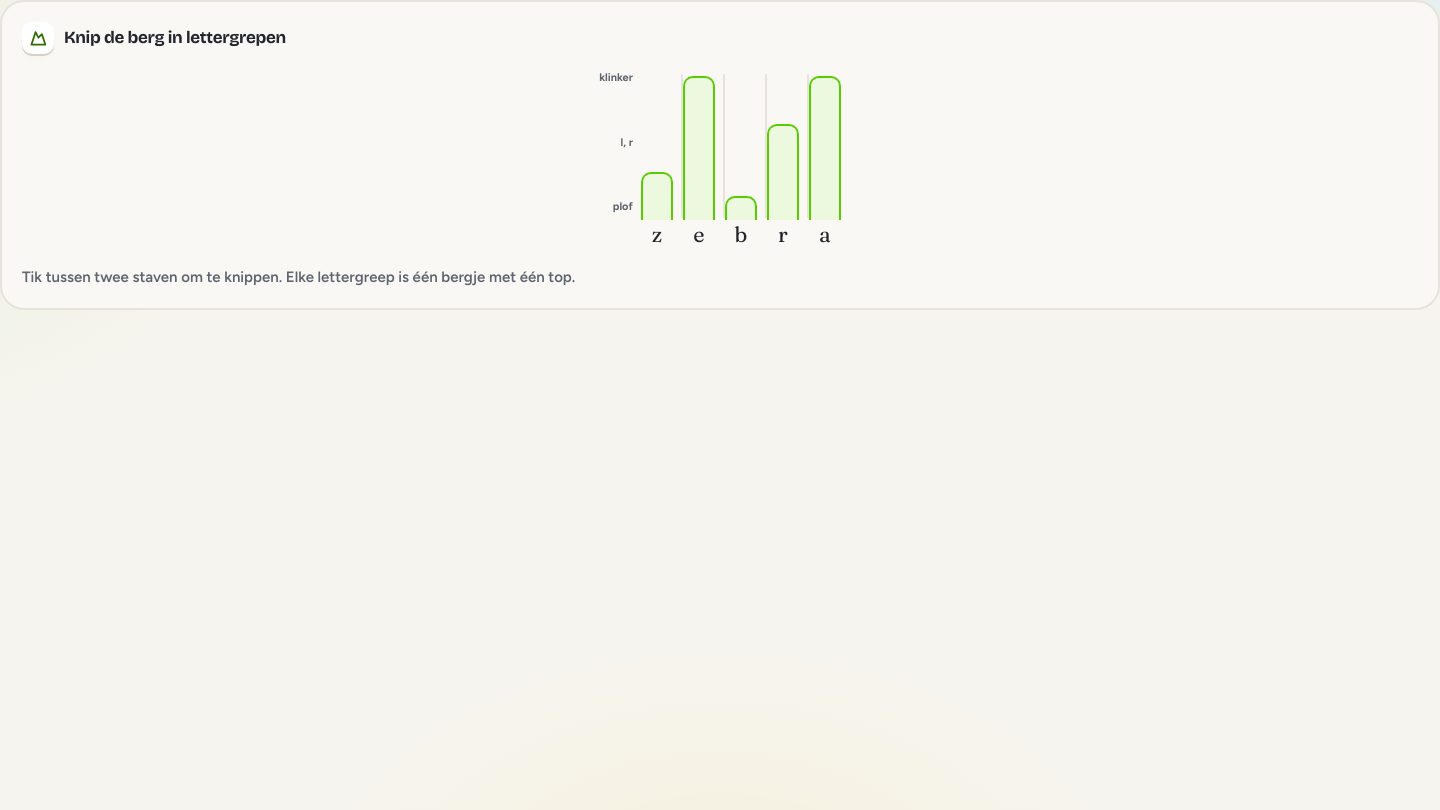
Test: lettergreepexperimenten › sonoriteitsberg: een verkeerde knip lost niet op, de goede knip wel
Click the button named "Knip tussen b en r": (762, 158) [757,70,767,246]
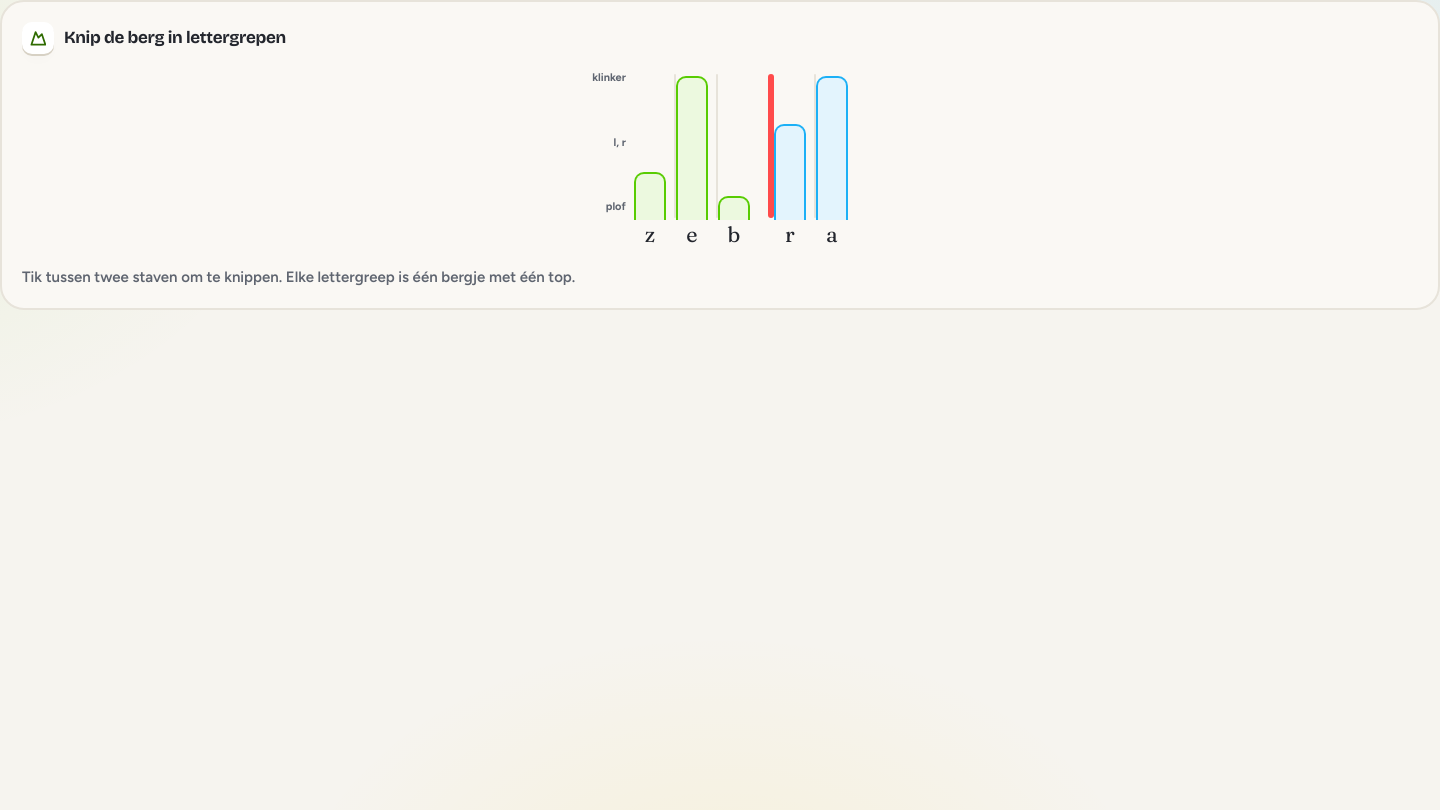
Result: the button named "Knip tussen b en r" is pressed
Click the button named "Knip tussen b en r": (762, 158) [750,70,774,246]
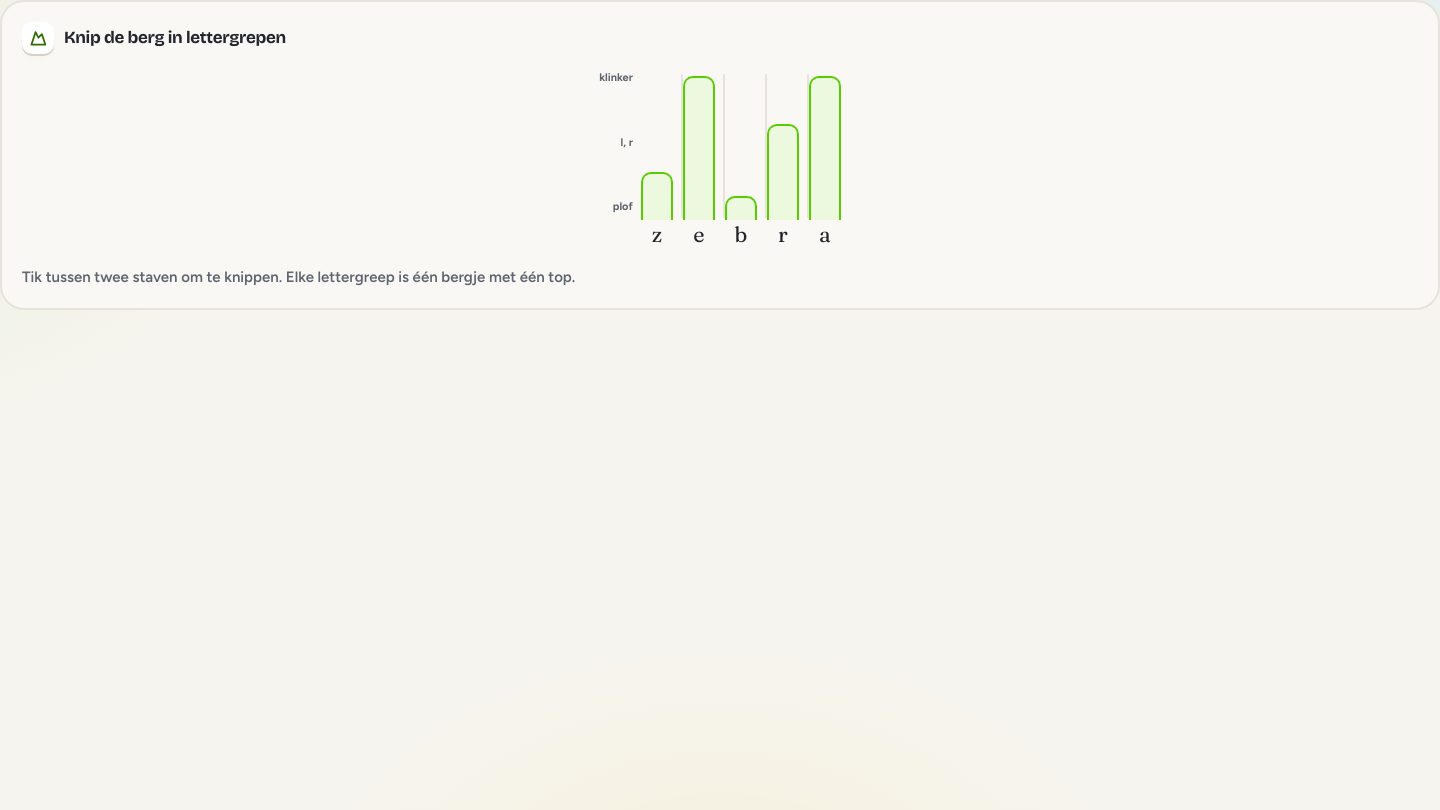
Click the button named "Knip tussen e en b": (720, 158) [715,70,725,246]
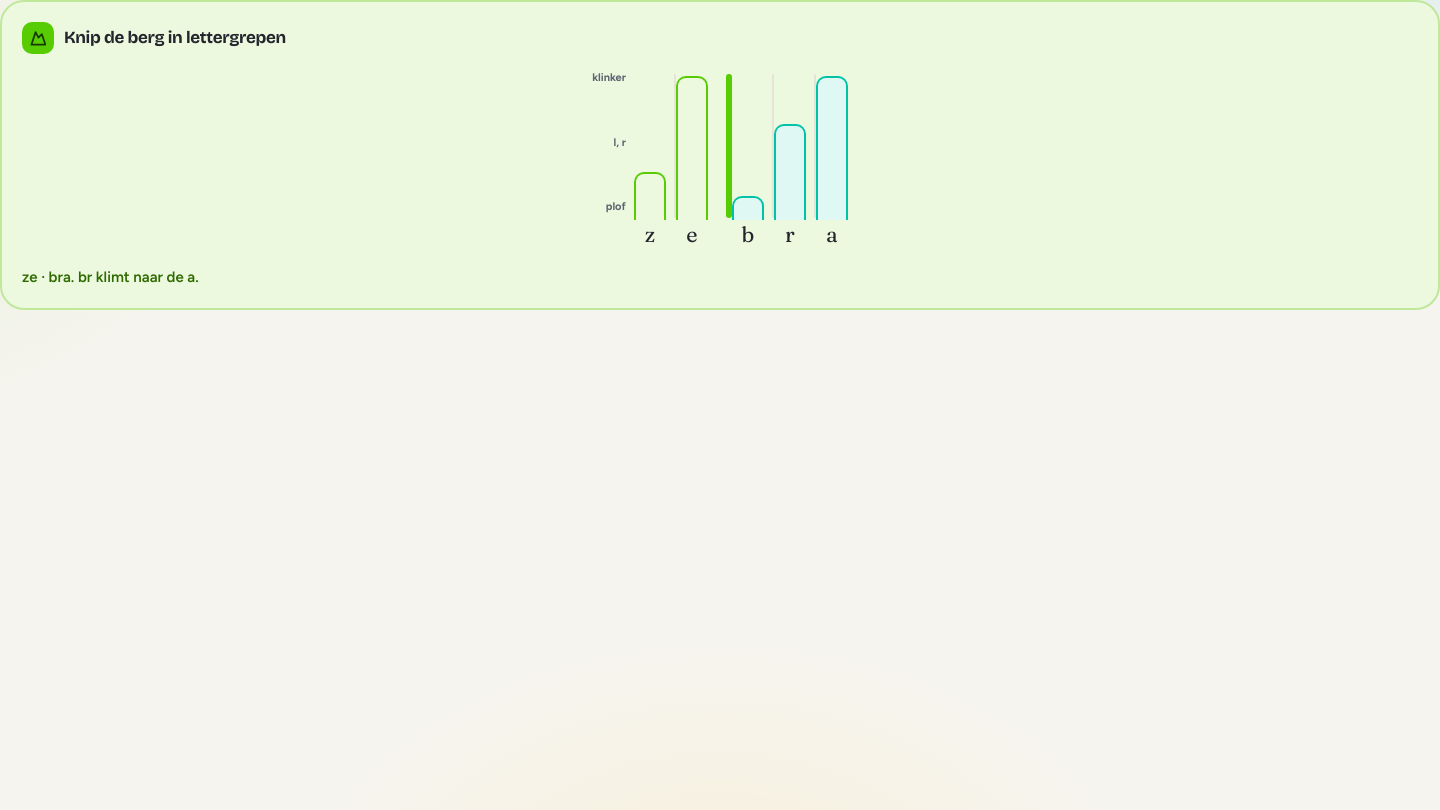
Result: the message reads "ze · bra. br klimt naar de a." at [22,268,199,286]
